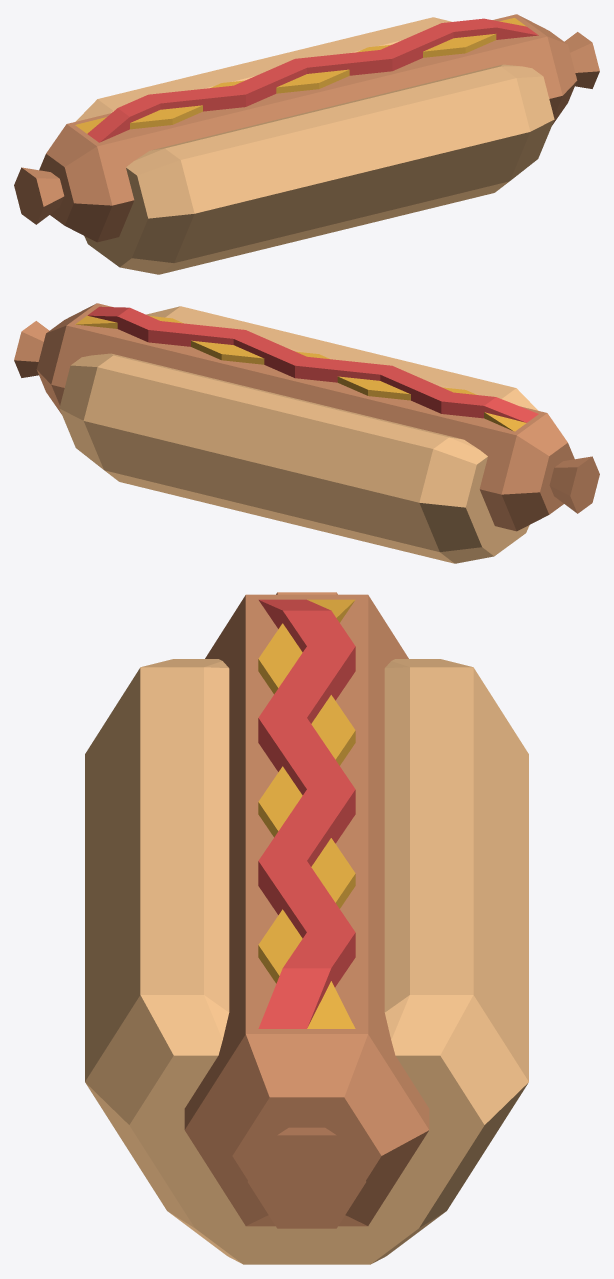
File: hotDog.fbx
3 views of the same model, one above another, from view 1: azimuth 30°, elevation 25°; view 2: azimuth 150°, elevation 25°; view 3: azimuth 270°, elevation 25° (orthographic). The views are drawn at different scales.
Visible parts, largest first — view 1: hotDog, sausage, sauce; view 2: hotDog, sausage, sauce; view 3: hotDog, sausage, sauce.
Boxes of the visible parts, box(x1,y1,x2,y2) form: hotDog: box(75, 17, 554, 274); sausage: box(14, 14, 599, 242); sauce: box(75, 18, 538, 142); hotDog: box(59, 306, 538, 563); sausage: box(14, 303, 599, 531); sauce: box(75, 306, 538, 431); hotDog: box(85, 659, 528, 1264); sausage: box(184, 592, 429, 1228); sauce: box(258, 599, 355, 1028).
Bounding box in the file's own units: 5.86 × 1.53 × 2.03.
